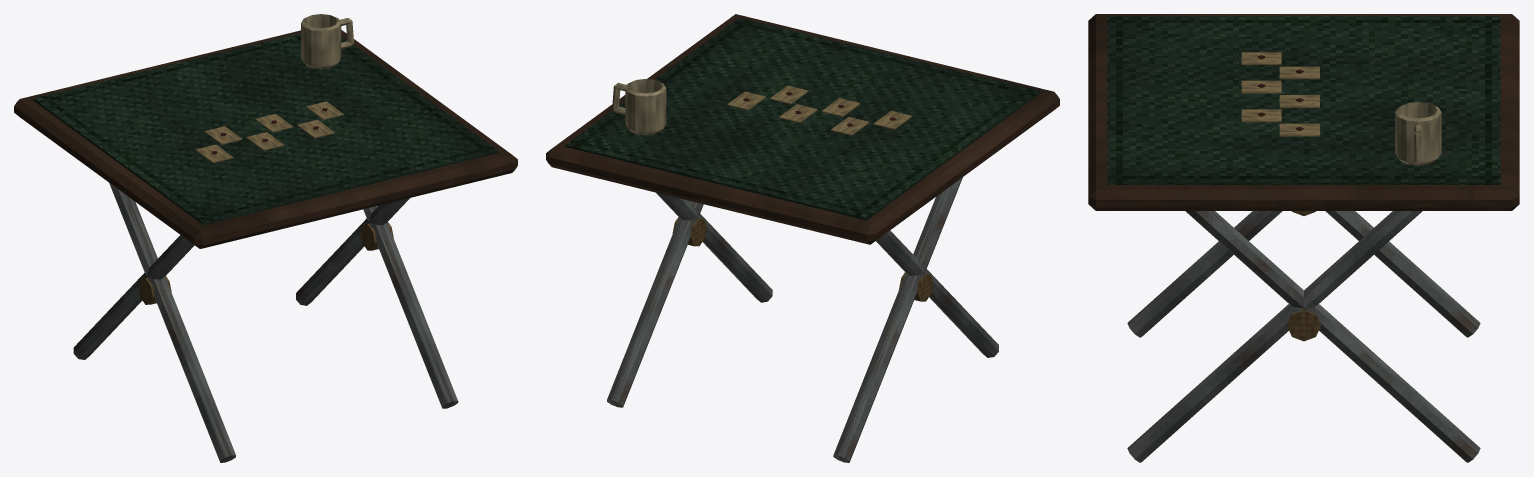
Rendered from level_lived_card_table_worn.glb.
The picture shows the model from 3 angles, left to right: view 1: azimuth 30°, elevation 25°; view 2: azimuth 150°, elevation 25°; view 3: azimuth 270°, elevation 25°; orthographic projection. The views are drawn at different scales.
Parts seen in each view (by area): view 1: level_lived_card_table_worn; view 2: level_lived_card_table_worn; view 3: level_lived_card_table_worn.
Part boxes in pixels (x1=…): level_lived_card_table_worn: x1=14, y1=14, x2=517, y2=462; level_lived_card_table_worn: x1=546, y1=14, x2=1059, y2=462; level_lived_card_table_worn: x1=1088, y1=14, x2=1519, y2=462.
Size of the model in its own units: 1.02 by 0.9078 by 1.02.
7 materials, 7 textured.
